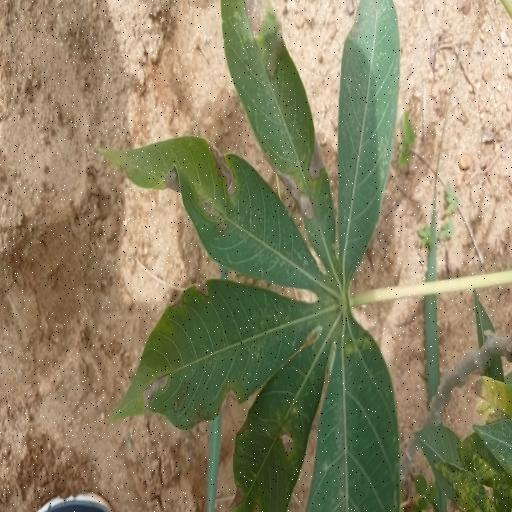Cassava_Brown_Leaf_Spot: (116, 0, 402, 512)
